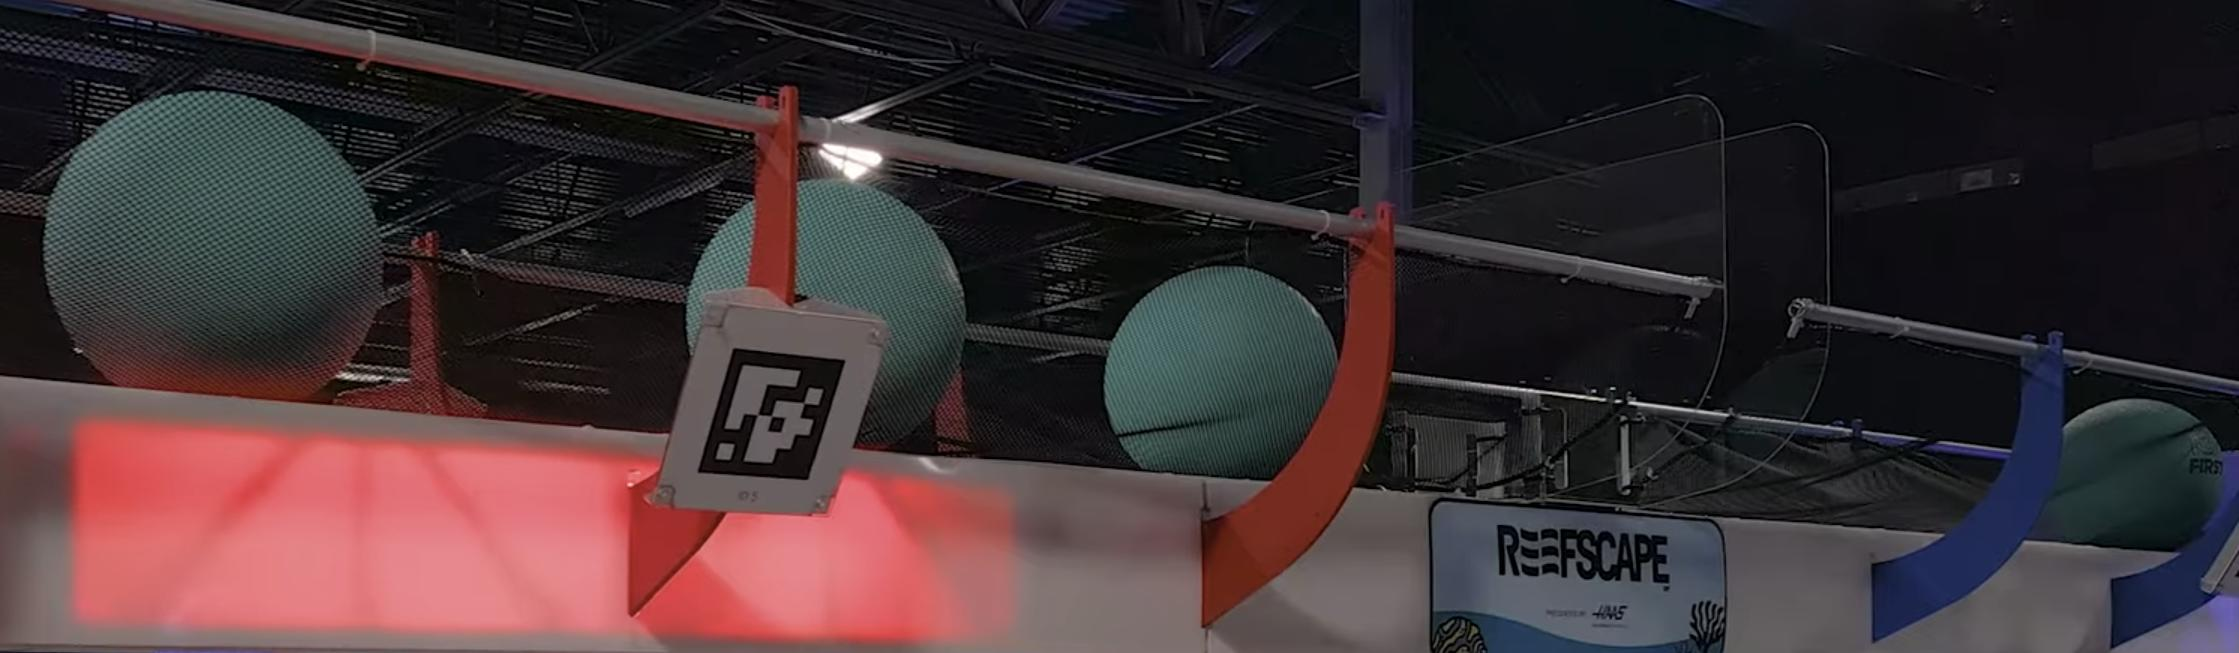algae: (40, 86, 386, 396), (683, 176, 967, 447), (1101, 261, 1339, 479), (2049, 396, 2225, 550)
